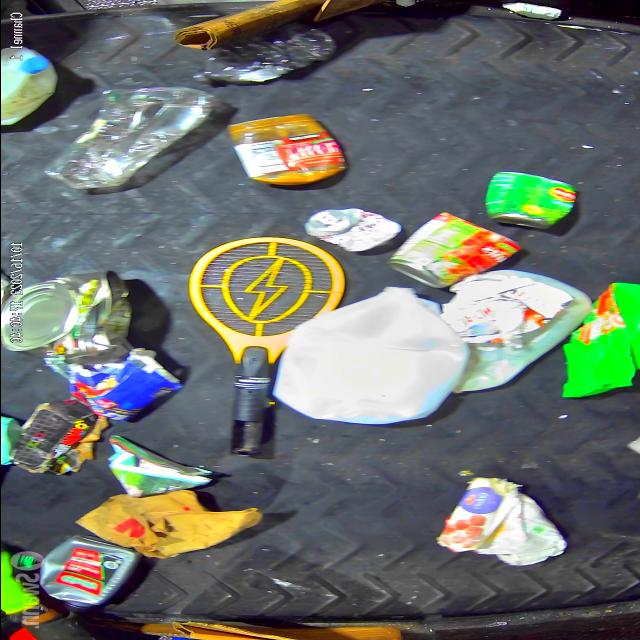can: (5, 272, 130, 364), (388, 217, 528, 284), (485, 169, 565, 227), (306, 208, 392, 252)
milk_jug: (265, 288, 452, 420)
non_white_jug: (563, 284, 640, 396)
plastic_bottle: (46, 90, 215, 192), (198, 24, 326, 86)
